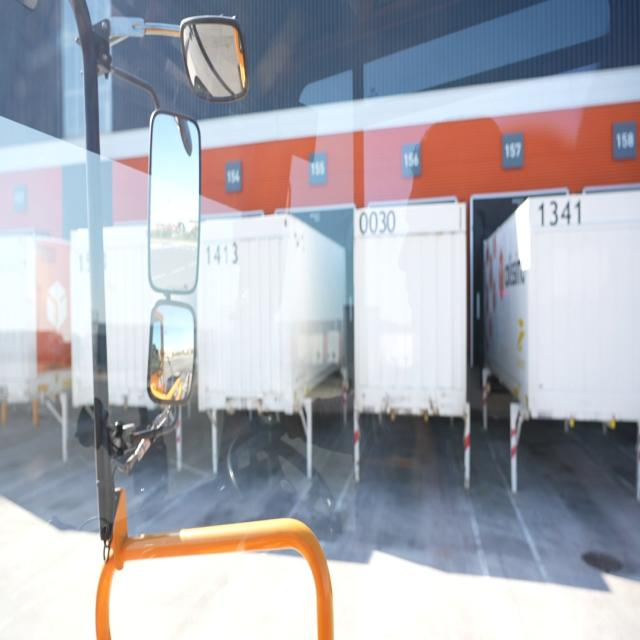Code: (203, 232, 242, 275), (536, 196, 583, 230), (355, 209, 400, 241)
